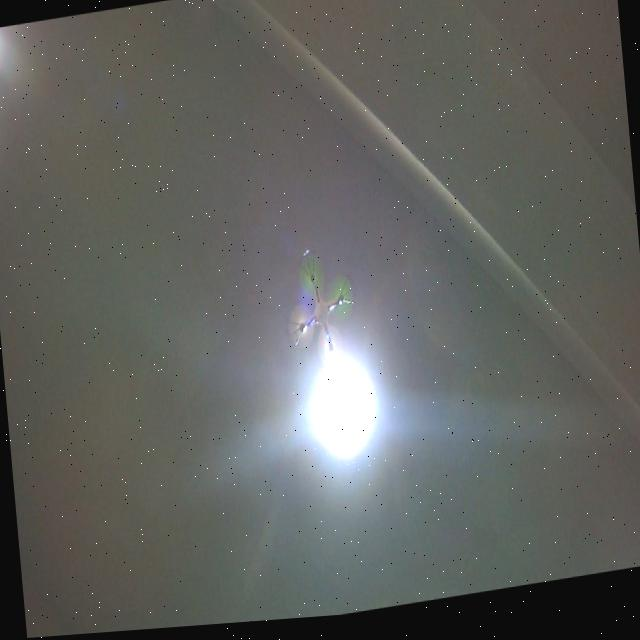drone: (278, 242, 363, 396)
